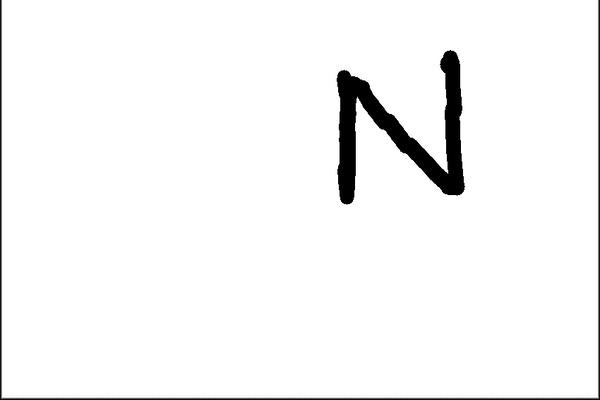N: (328, 44, 473, 209)
